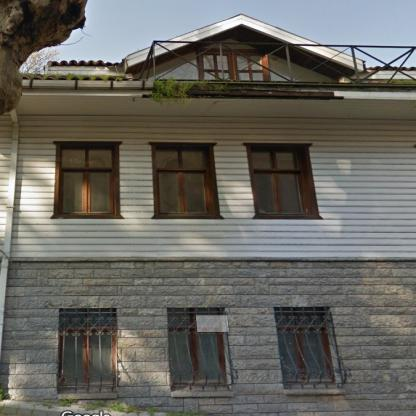window: (275, 310, 331, 381), (61, 310, 114, 385), (170, 309, 222, 383), (251, 150, 306, 216), (58, 148, 112, 214), (156, 149, 210, 214), (202, 53, 264, 80)
